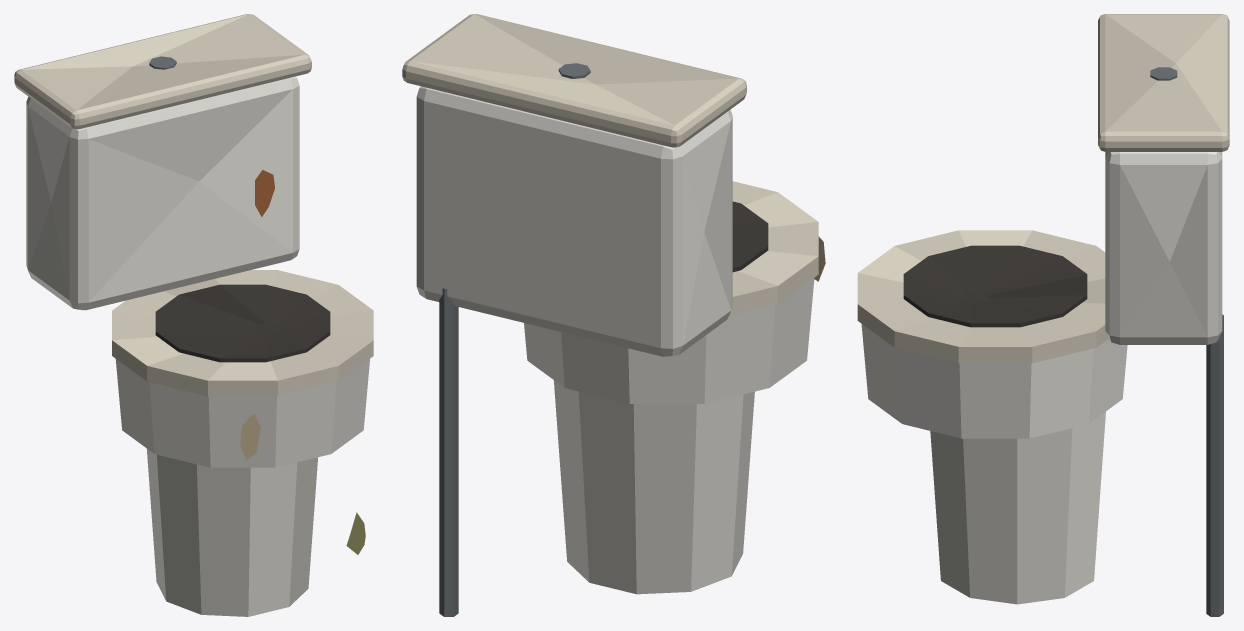
File: toilet_fayansovyy_so_smyvom_idle.glb
3 views of the same model, side by side, from view 1: azimuth 30°, elevation 25°; view 2: azimuth 150°, elevation 25°; view 3: azimuth 270°, elevation 25° (orthographic). The views are drawn at different scales.
Visible parts, largest first — view 1: toilet_fayansovyy_so_smyvom_idle; view 2: toilet_fayansovyy_so_smyvom_idle; view 3: toilet_fayansovyy_so_smyvom_idle.
Boxes of the visible parts, x1,y1,x2,y2 form: toilet_fayansovyy_so_smyvom_idle: (14, 14, 373, 616); toilet_fayansovyy_so_smyvom_idle: (402, 14, 825, 616); toilet_fayansovyy_so_smyvom_idle: (857, 14, 1229, 616).
Size of the model in its own units: 0.4 by 0.75 by 0.513.
1 material, 1 textured.
